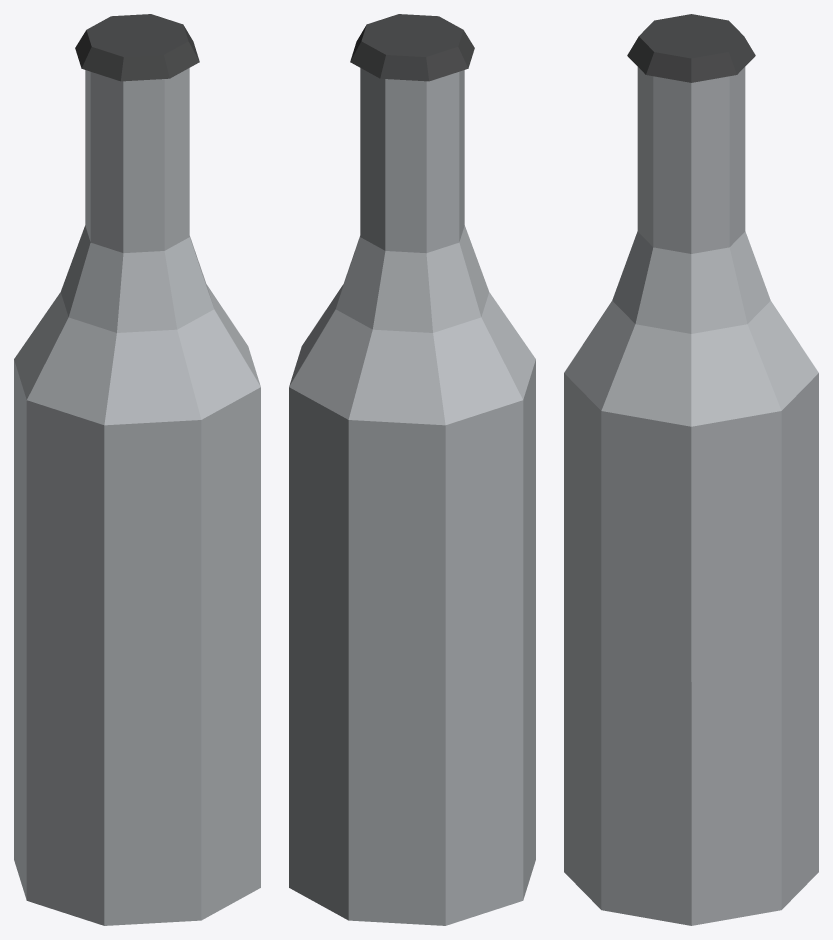
Rendered from SM_bottle_02.fbx.
3 renders of one model, left to right at view 1: azimuth 30°, elevation 25°; view 2: azimuth 150°, elevation 25°; view 3: azimuth 270°, elevation 25°, orthographic.
Parts seen in each view (by area): view 1: Cylinder032; view 2: Cylinder032; view 3: Cylinder032.
Boxes of the visible parts, box(x1,y1,x2,y2) form: Cylinder032: box(14, 14, 260, 925); Cylinder032: box(289, 14, 535, 925); Cylinder032: box(564, 14, 818, 925).
Bounding box in the file's own units: 4.41 × 4.41 × 15.94.
